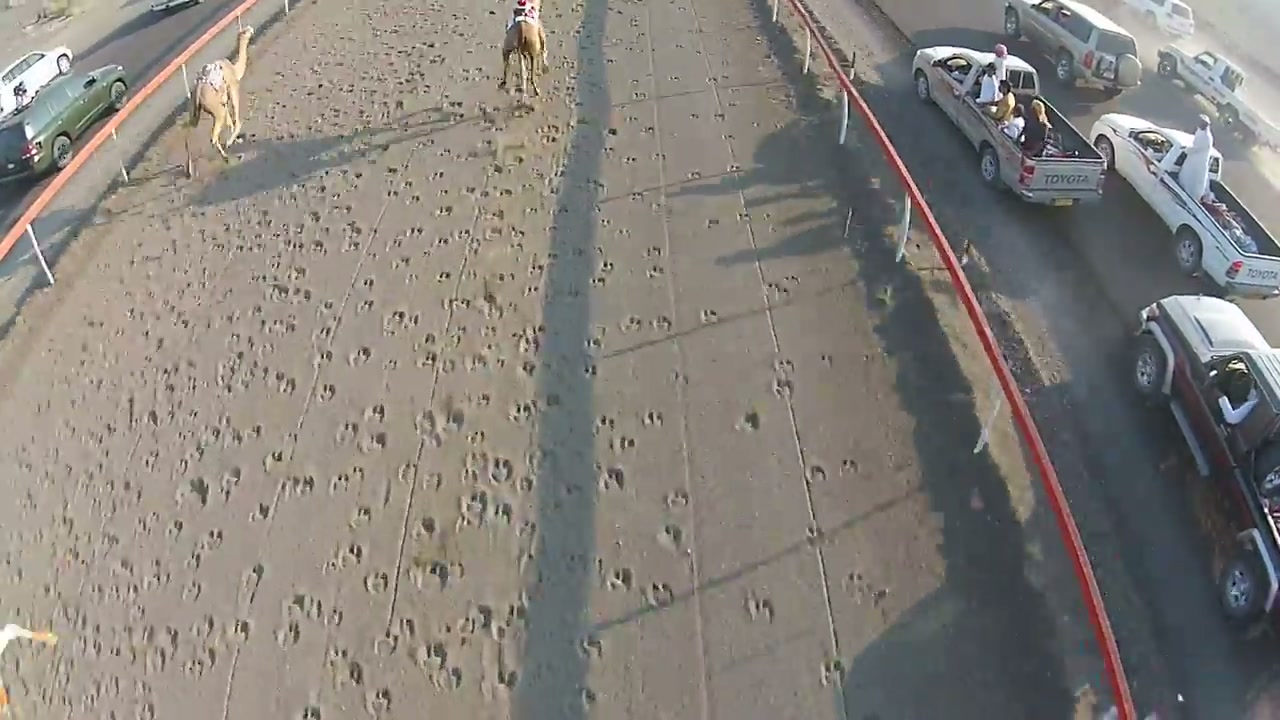animal_foot_print: (326, 107, 589, 706), (88, 144, 320, 704)
